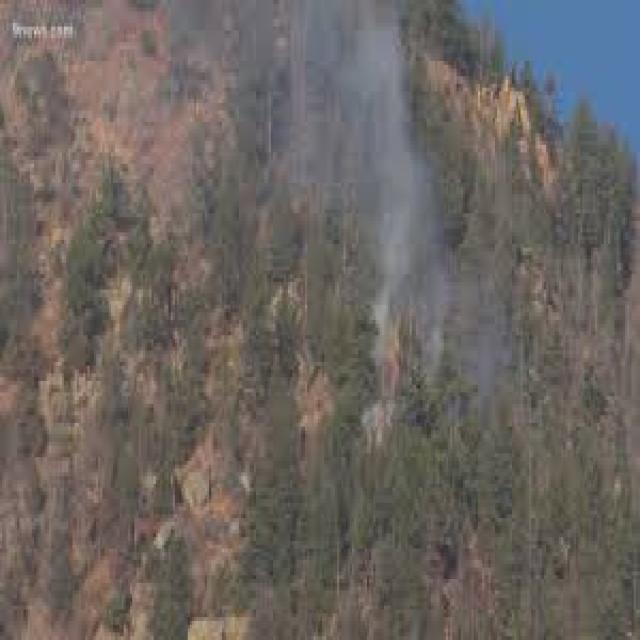Smoke: (280, 0, 426, 186), (368, 182, 453, 342)
